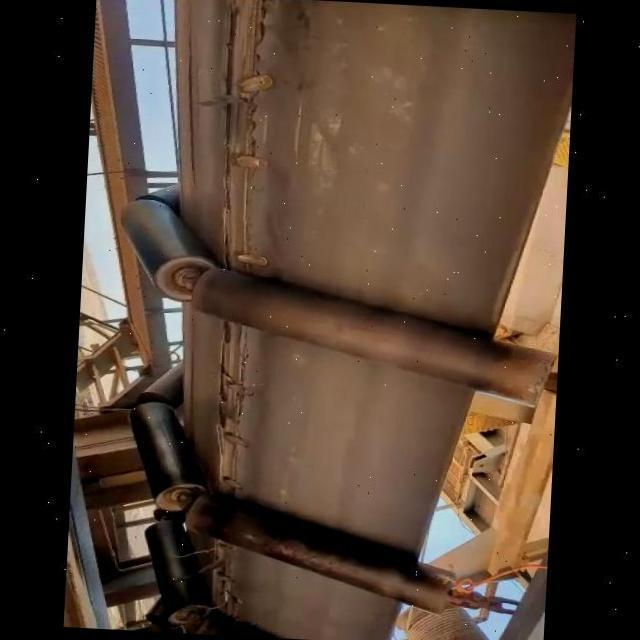Tear: (208, 0, 274, 276), (206, 320, 258, 496), (202, 538, 243, 623)
